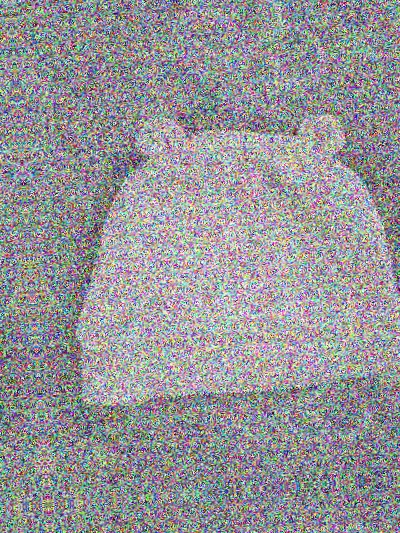Hat: (50, 86, 400, 424), (0, 116, 9, 454)
